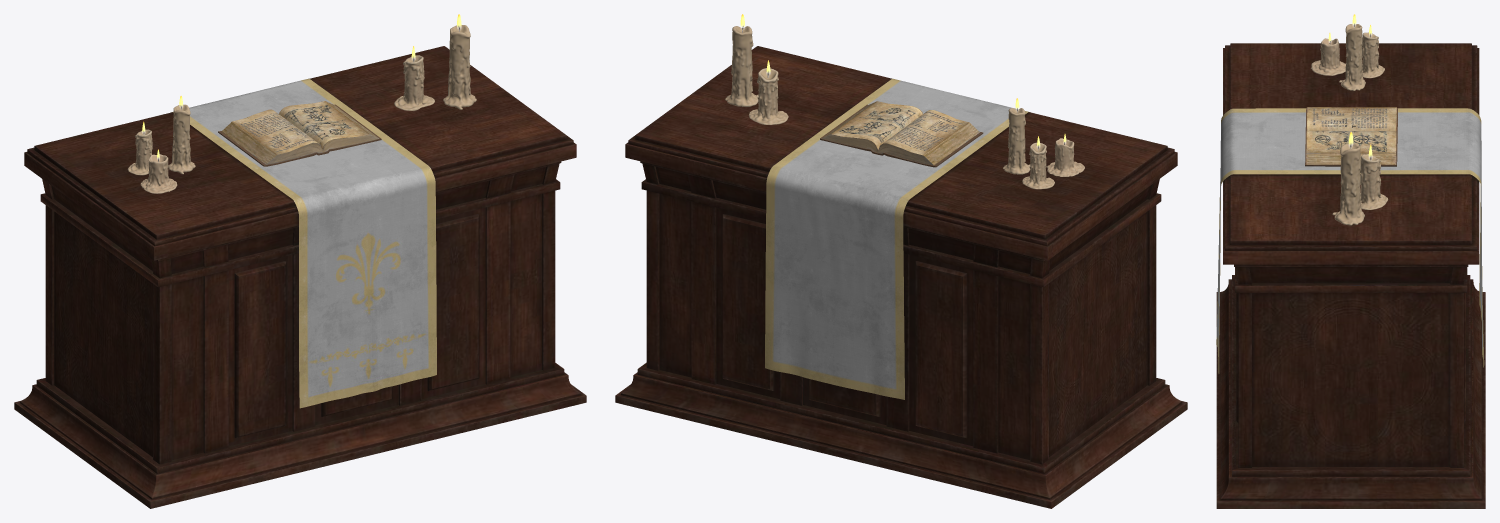
The model's file is altar.glb.
The picture shows the model from 3 angles, left to right: view 1: azimuth 30°, elevation 25°; view 2: azimuth 150°, elevation 25°; view 3: azimuth 270°, elevation 25°; orthographic projection.
Visible parts, largest first — view 1: simply_coll, simply_cloth, BookOpen_LP, candle_1_0.001, candle_2_2.001, candle_1_0, candle_3_4, candle_2_2; view 2: simply_coll, simply_cloth, BookOpen_LP, candle_1_0.001, candle_2_2.001, candle_1_0, candle_3_4, candle_2_2; view 3: simply_coll, simply_cloth, BookOpen_LP, candle_1_0.001, candle_1_0, candle_2_2.001, candle_3_4, candle_2_2.
Boxes of the visible parts, x1,y1,x2,y2 form: simply_coll: (14,46,586,508); simply_cloth: (171,78,436,408); BookOpen_LP: (218,101,381,166); candle_1_0.001: (443,25,476,109); candle_2_2.001: (394,55,434,110); candle_1_0: (168,104,195,174); candle_3_4: (140,154,177,193); candle_2_2: (127,129,152,175); simply_coll: (615,46,1187,508); simply_cloth: (765,78,1029,399); BookOpen_LP: (820,101,983,167); candle_1_0.001: (725,26,758,106); candle_2_2.001: (748,68,788,124); candle_1_0: (1003,108,1030,174); candle_3_4: (1047,138,1084,176); candle_2_2: (1022,142,1054,189); simply_coll: (1216,43,1485,508); simply_cloth: (1216,108,1484,373); BookOpen_LP: (1305,107,1397,166); candle_1_0.001: (1332,144,1364,225); candle_1_0: (1339,24,1365,90); candle_2_2.001: (1360,154,1388,209); candle_3_4: (1310,38,1345,75); candle_2_2: (1362,32,1384,78).
Bounding box in the file's own units: 16.56 × 12.81 × 8.97.
Materials: 10 (10 with a texture image).
